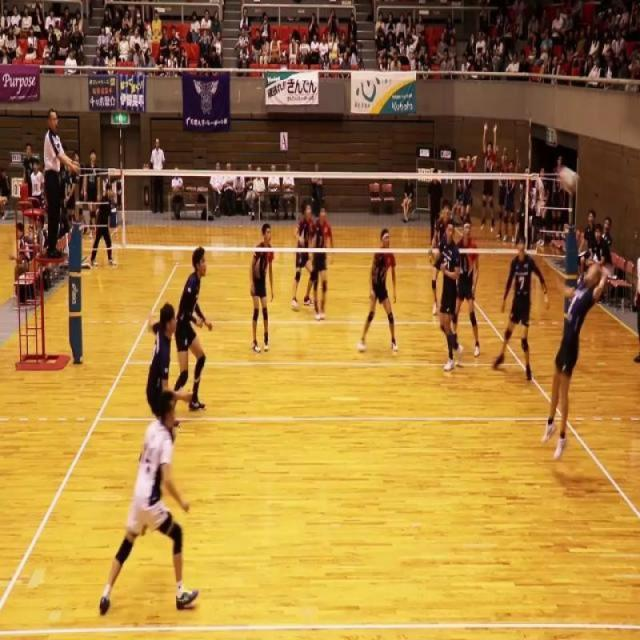volleyball: (560, 165, 580, 195)
